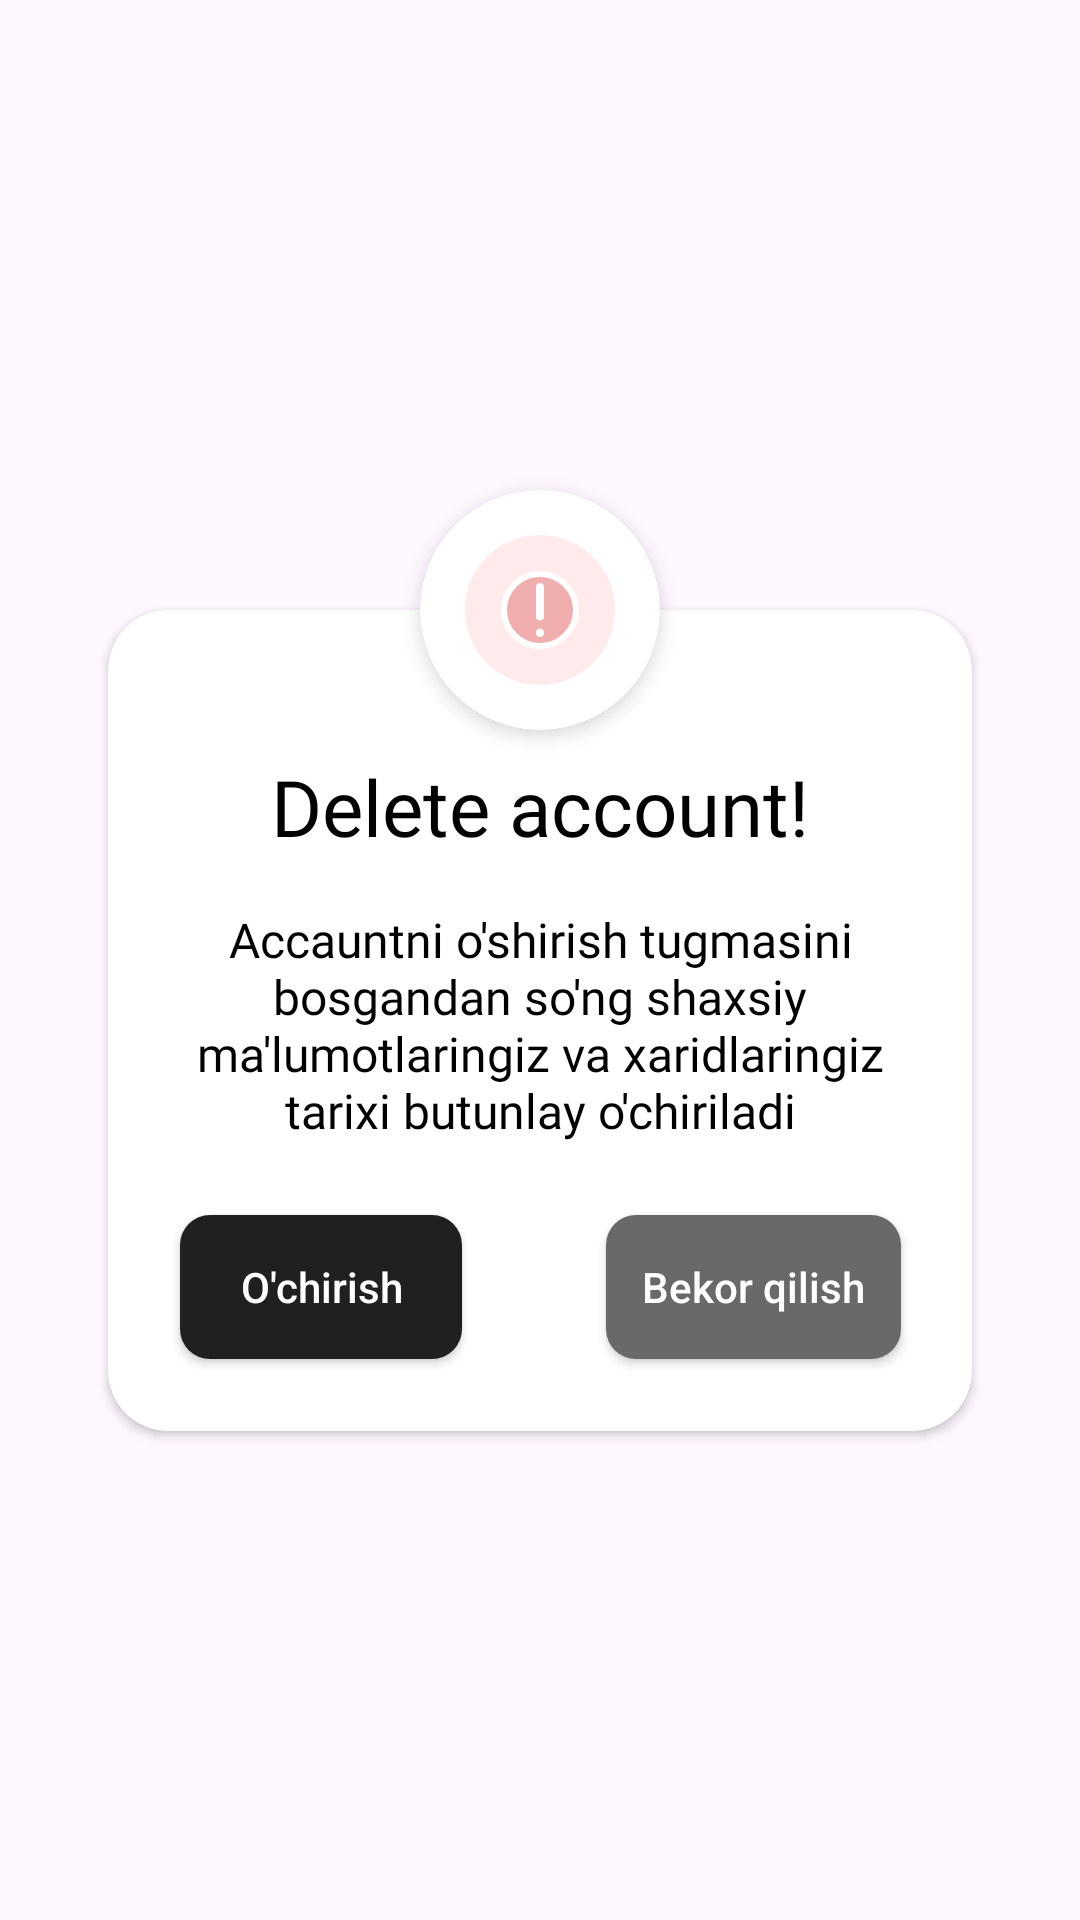

Point at icon controls on the screen. Image size 1080 x 1920, points as [x,y].
exclamation: [540,610]
